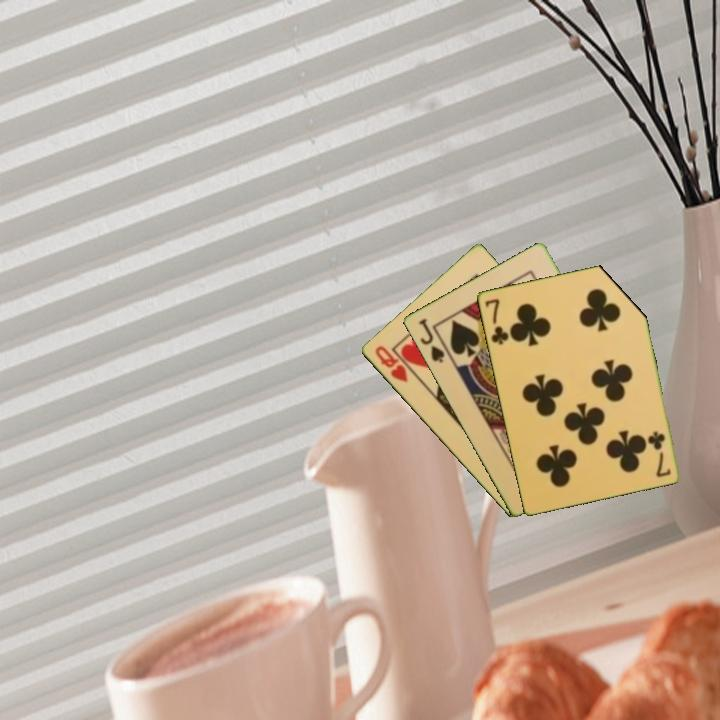7c: (481, 295, 511, 347), (645, 427, 673, 480)
Js: (415, 314, 447, 366)
Qh: (371, 342, 410, 385)
